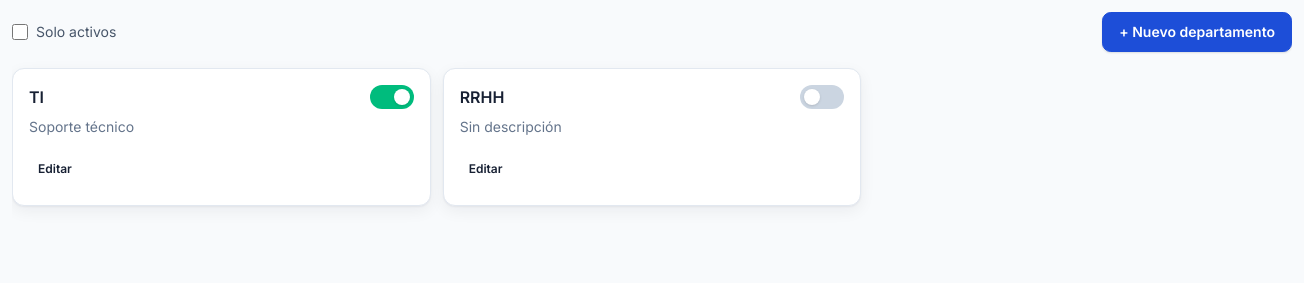
Test: Departments › muestra el error al cambiar el estado de un departamento
Expected: the text "TI" is shown, [29,85,44,109]
Click the switch named "TI" at {"x": 392, "y": 97}, box [370,85,414,109]
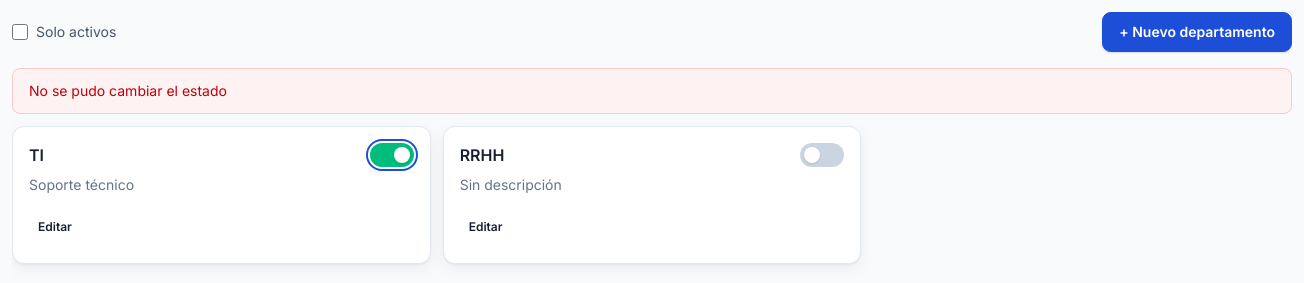
Now the message "No se pudo cambiar el estado" is shown, box [12,68,1292,114]
